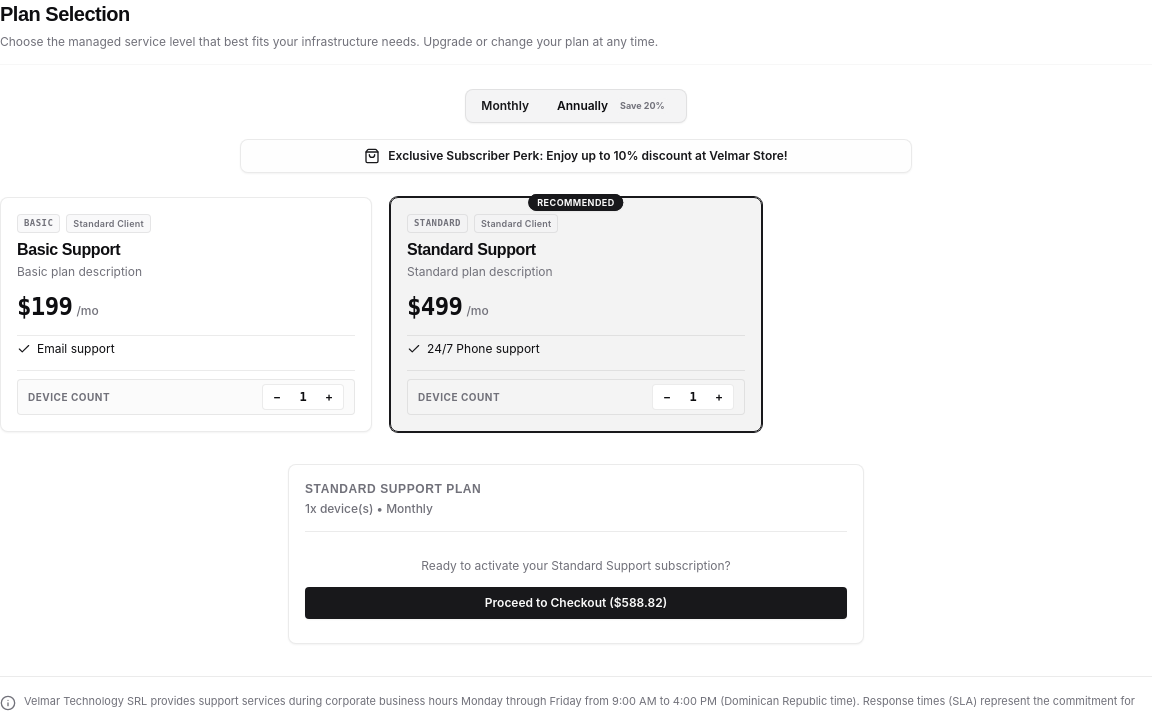
Test: PlansPage › Client Flow › updates pricing and calculations when toggling to Annually
Expected: the text "$499" is shown, [407, 291, 462, 323]
Click Annually button
Step 1. Click the button "Annually Save 20%" → (614, 106), box [544, 92, 684, 120]
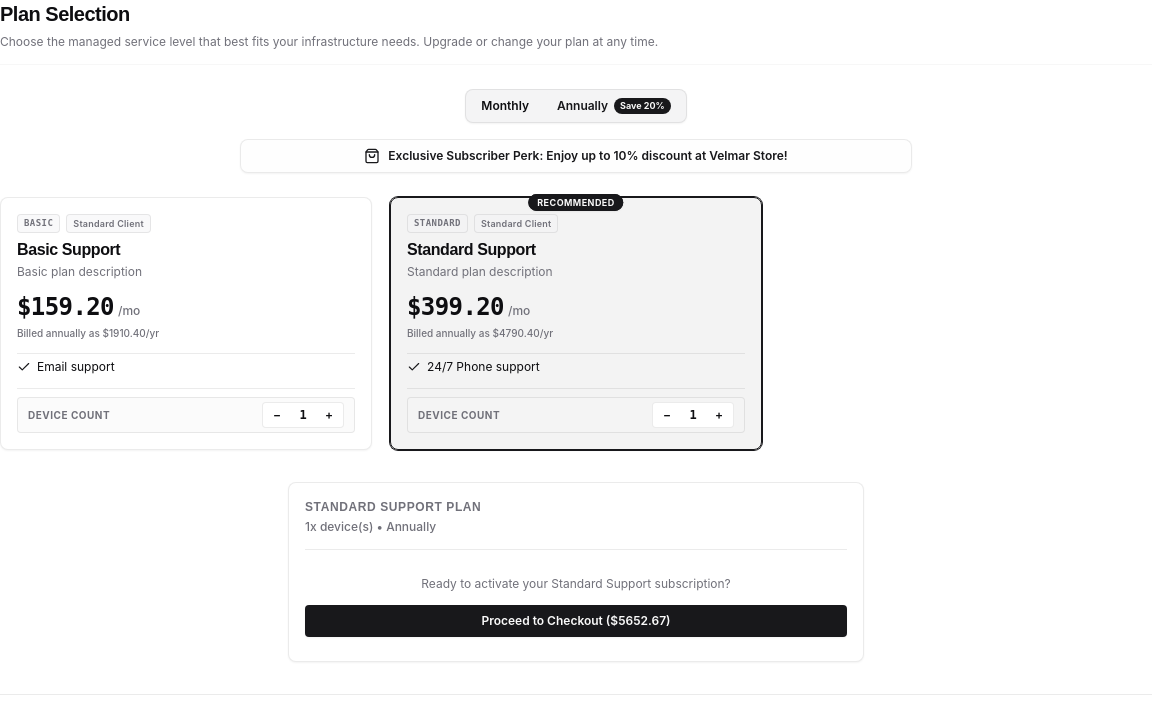
Expected: the text "$399.20" is shown, [407, 291, 504, 323]
Expected: the text "Billed annually as $4790.40/yr" is shown, [407, 327, 553, 339]
Open Order Summary Sheet
Step 2. Click the button "Proceed to Checkout ($5652.67)" → (576, 621), box [305, 605, 847, 637]
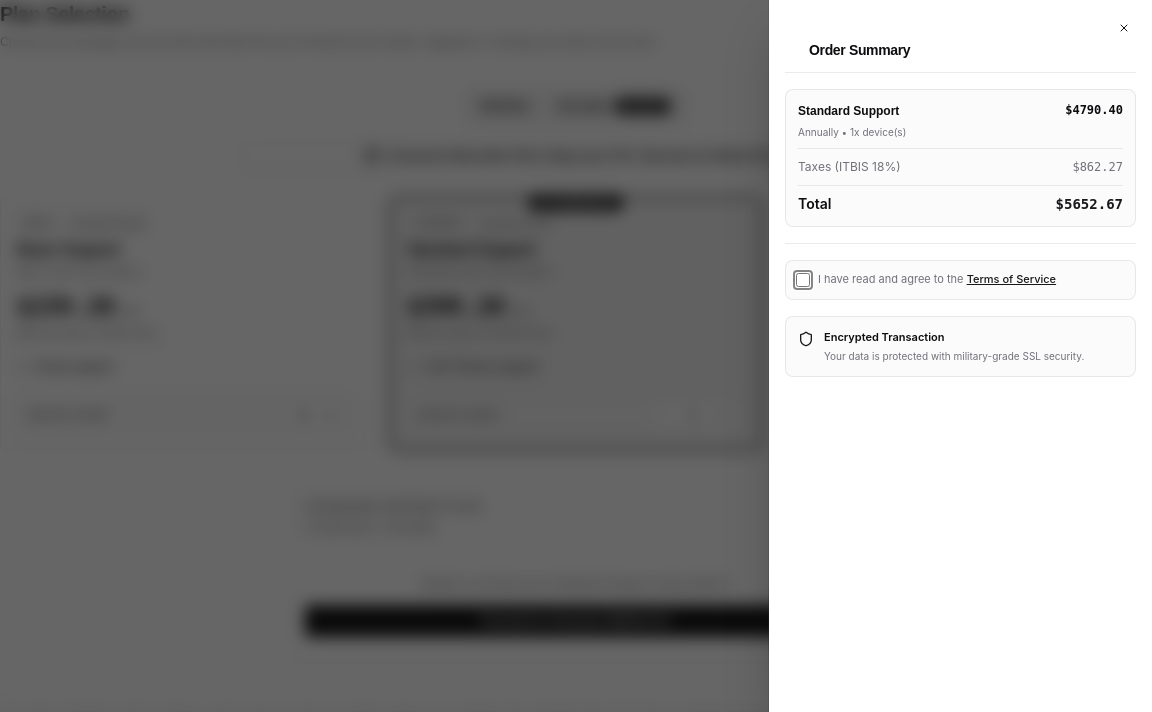
Expected: the text "$4790.40" is shown, [1065, 102, 1123, 118]
Expected: the text "$862.27" is shown, [1072, 159, 1123, 175]
Expected: the text "$5652.67" is shown, [1056, 194, 1123, 214]
